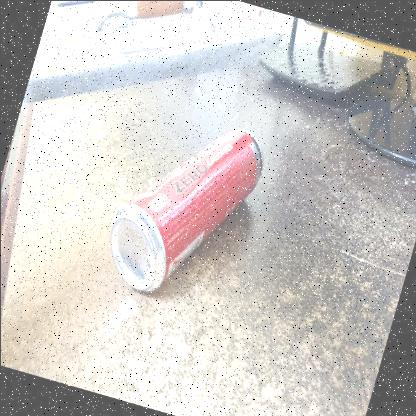Can: (105, 127, 259, 293)
